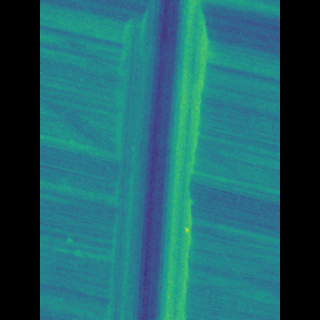Loch: (118, 0, 198, 320)
